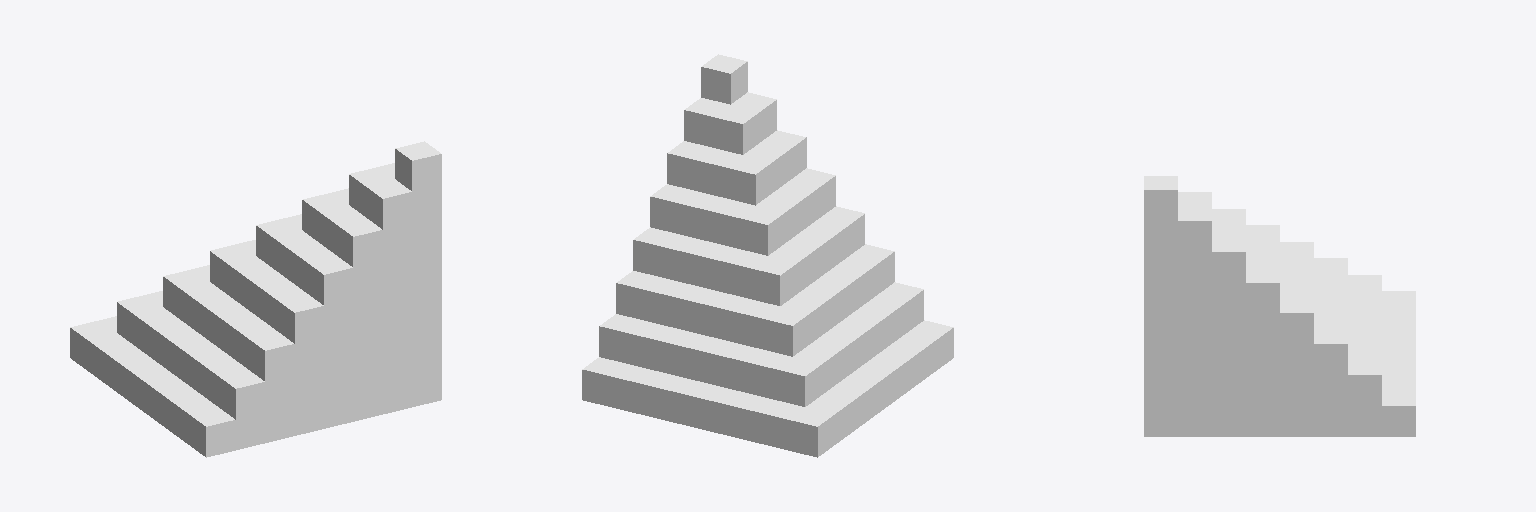
The model's file is CornerSlopedSnowTile.obj.
The picture shows the model from 3 angles: view 1: azimuth 30°, elevation 25°; view 2: azimuth 150°, elevation 25°; view 3: azimuth 270°, elevation 25°; orthographic projection.
Parts seen in each view (by area): view 1: object 1; view 2: object 1; view 3: object 1.
Boxes of the visible parts, <box> form: object 1: <box>70,141,441,457</box>; object 1: <box>582,54,953,457</box>; object 1: <box>1144,176,1415,436</box>.
Bounding box in the file's own units: 0.8 × 0.8 × 0.8.